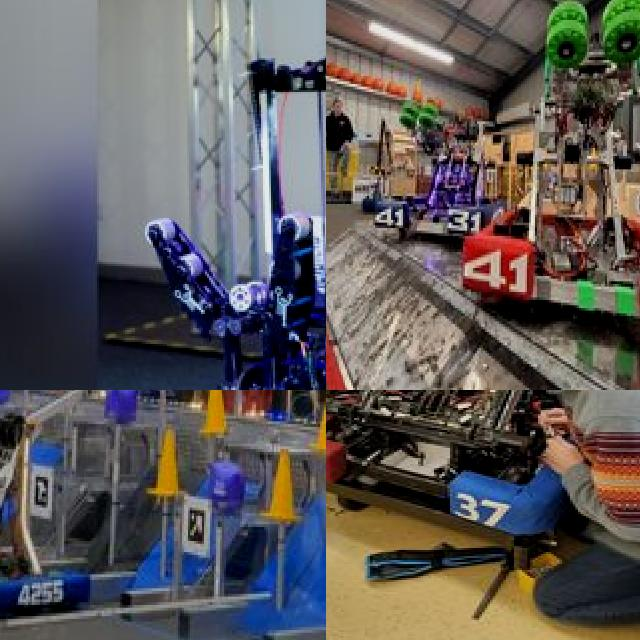FRC-Robots: (326, 19, 640, 390), (94, 66, 326, 390), (326, 390, 640, 550), (336, 103, 526, 250), (0, 413, 96, 623)
